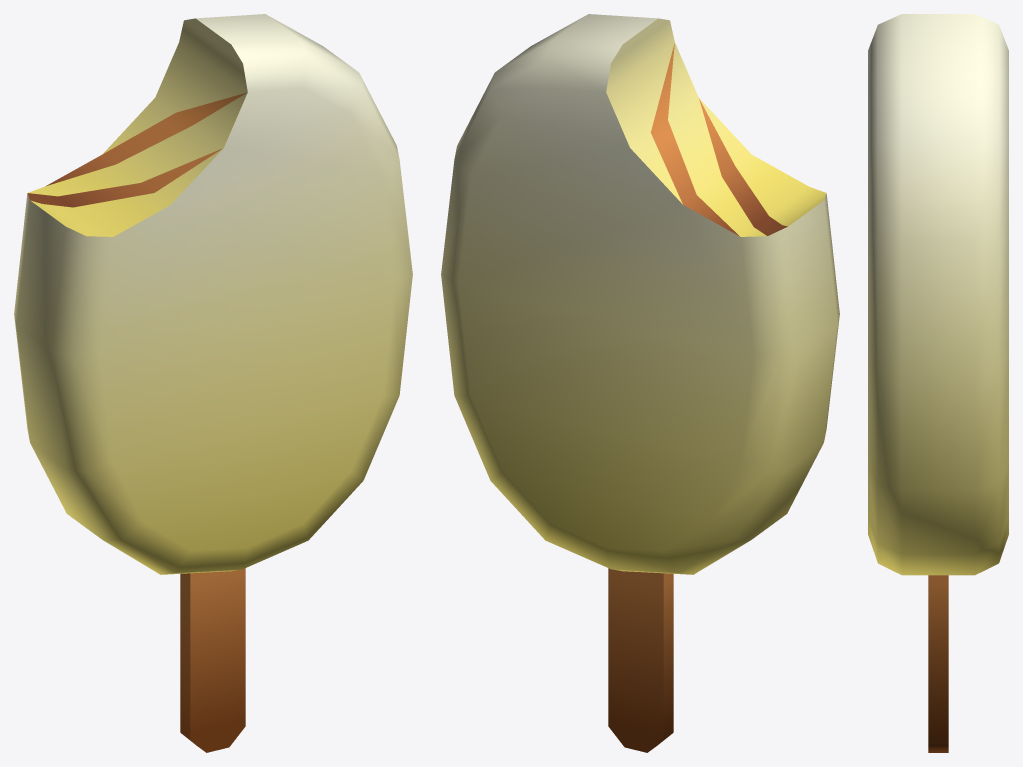
The model's file is m_BigPopsicle02.fbx.
3 views of the same model, side by side, from view 1: azimuth 30°, elevation 25°; view 2: azimuth 150°, elevation 25°; view 3: azimuth 270°, elevation 25° (orthographic). The views are drawn at different scales.
Parts seen in each view (by area): view 1: m_BigPopsicle02; view 2: m_BigPopsicle02; view 3: m_BigPopsicle02.
Part boxes in pixels (left/top/right/bottom): m_BigPopsicle02: left=14, top=14, right=412, bottom=752; m_BigPopsicle02: left=441, top=14, right=839, bottom=752; m_BigPopsicle02: left=868, top=14, right=1008, bottom=752.
Size of the model in its own units: 12.05 by 22.96 by 4.
